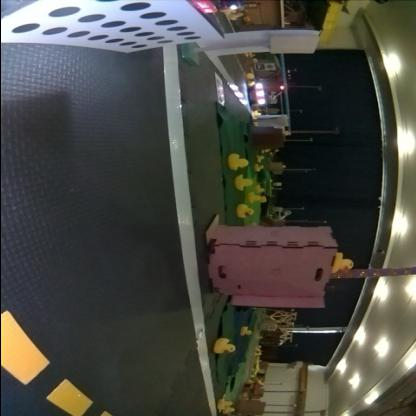Duckie: (332, 254, 354, 274), (214, 338, 236, 354), (228, 156, 249, 170), (236, 204, 254, 219), (236, 175, 252, 191), (218, 400, 232, 410), (240, 327, 251, 336), (256, 156, 264, 162), (254, 165, 261, 170)
Duckiebot: (16, 2, 222, 53)
